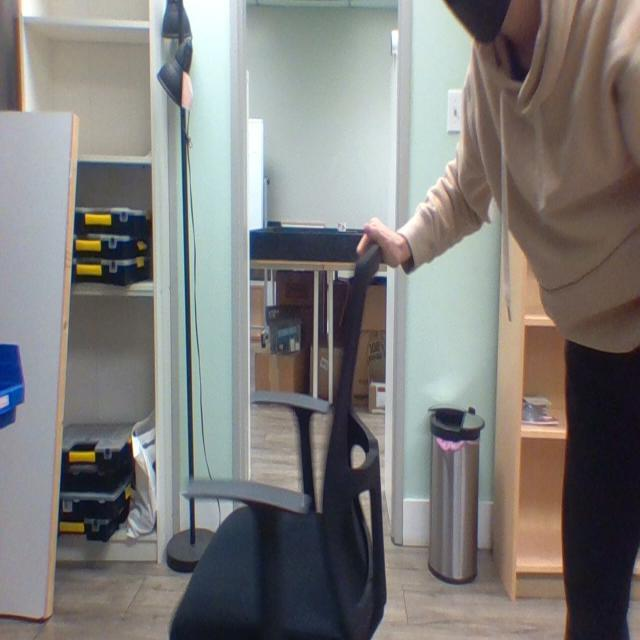black-chair: (171, 251, 395, 639)
